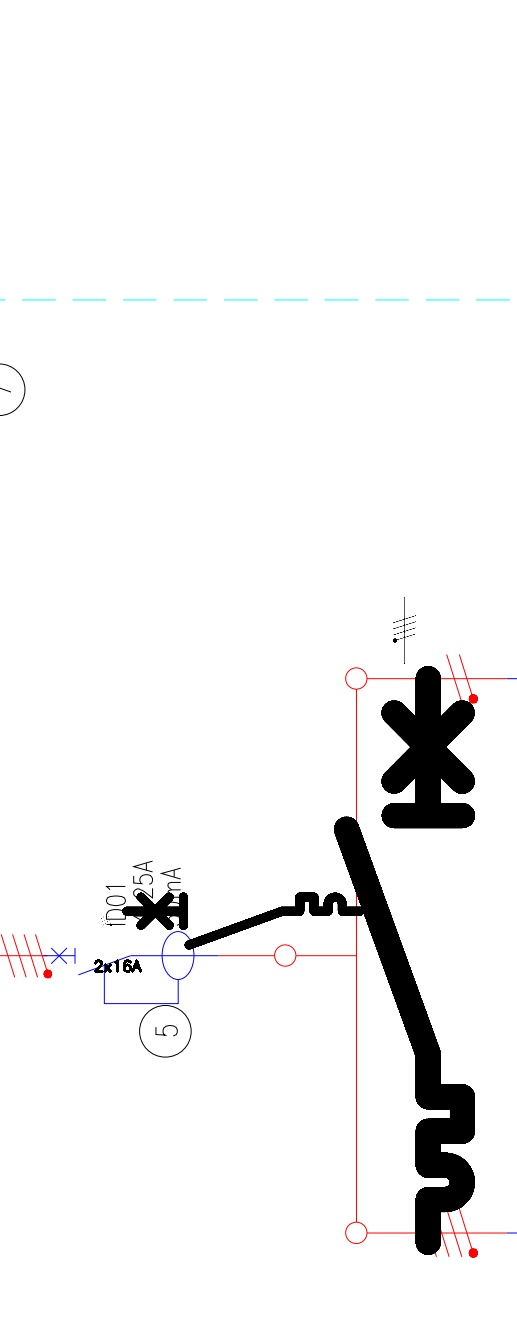interruptor_termomagnetico: (332, 664, 477, 1257), (120, 891, 365, 951)
